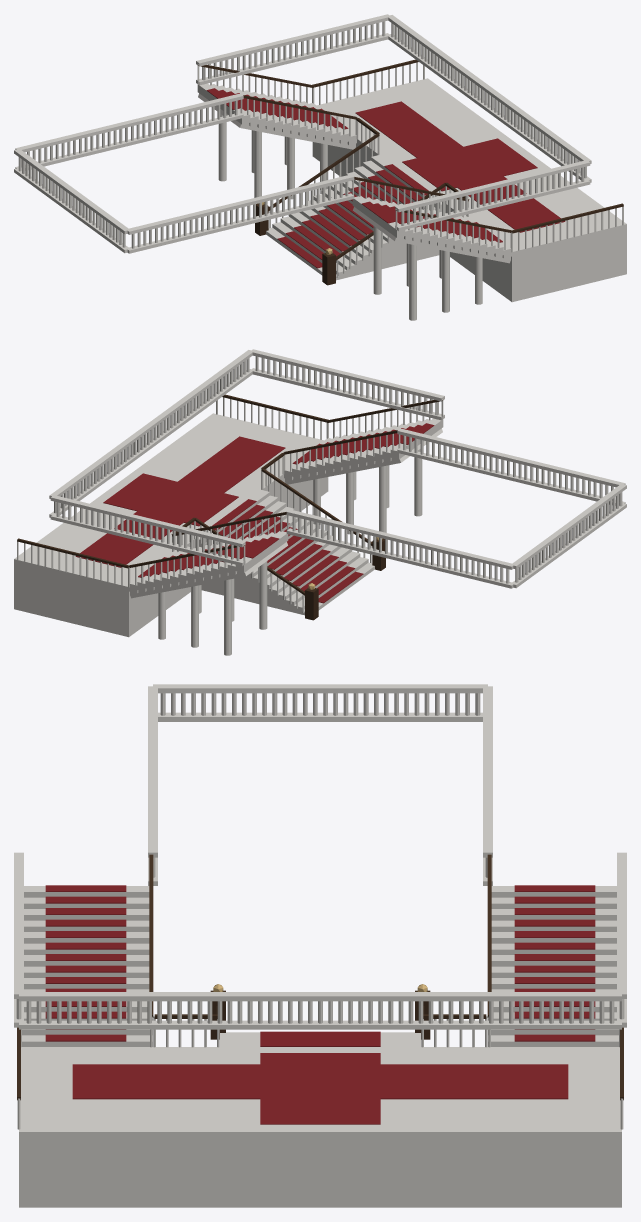
File: SM_Malikane_Saray_Merdiveni.fbx
3 views of the same model, one above another, from view 1: azimuth 30°, elevation 25°; view 2: azimuth 150°, elevation 25°; view 3: azimuth 270°, elevation 25° (orthographic). The views are drawn at different scales.
Parts seen in each view (by area): view 1: Malikane_Saray_Merdiveni; view 2: Malikane_Saray_Merdiveni; view 3: Malikane_Saray_Merdiveni.
Part boxes in pixels (bbox=[...]): Malikane_Saray_Merdiveni: bbox=[14, 14, 626, 320]; Malikane_Saray_Merdiveni: bbox=[14, 349, 626, 655]; Malikane_Saray_Merdiveni: bbox=[14, 684, 626, 1207].
Bounding box in the file's own units: 2390 × 610 × 1830.
